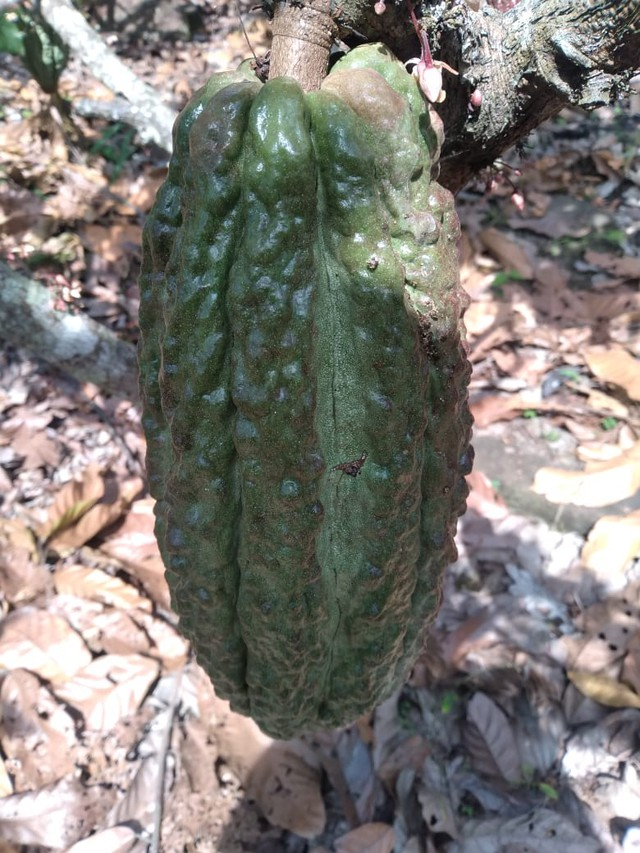Health: (89, 16, 507, 758)
